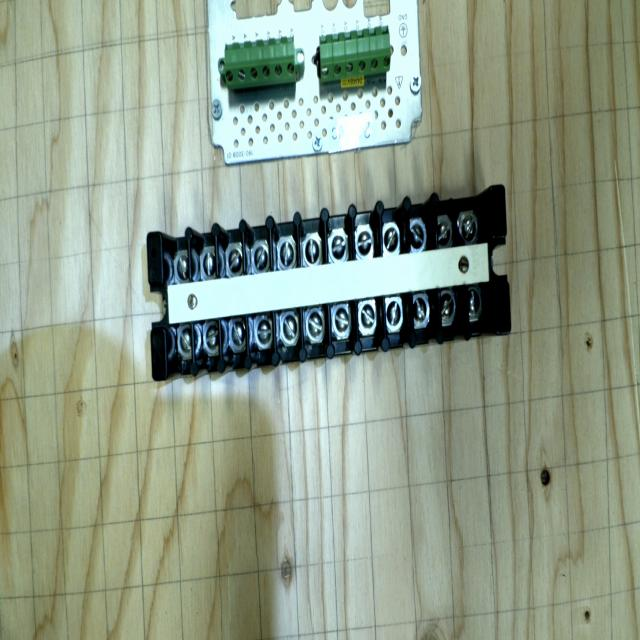Flathead_Block: (134, 187, 524, 380)
Terminal_1: (314, 25, 395, 82), (222, 36, 298, 86)
